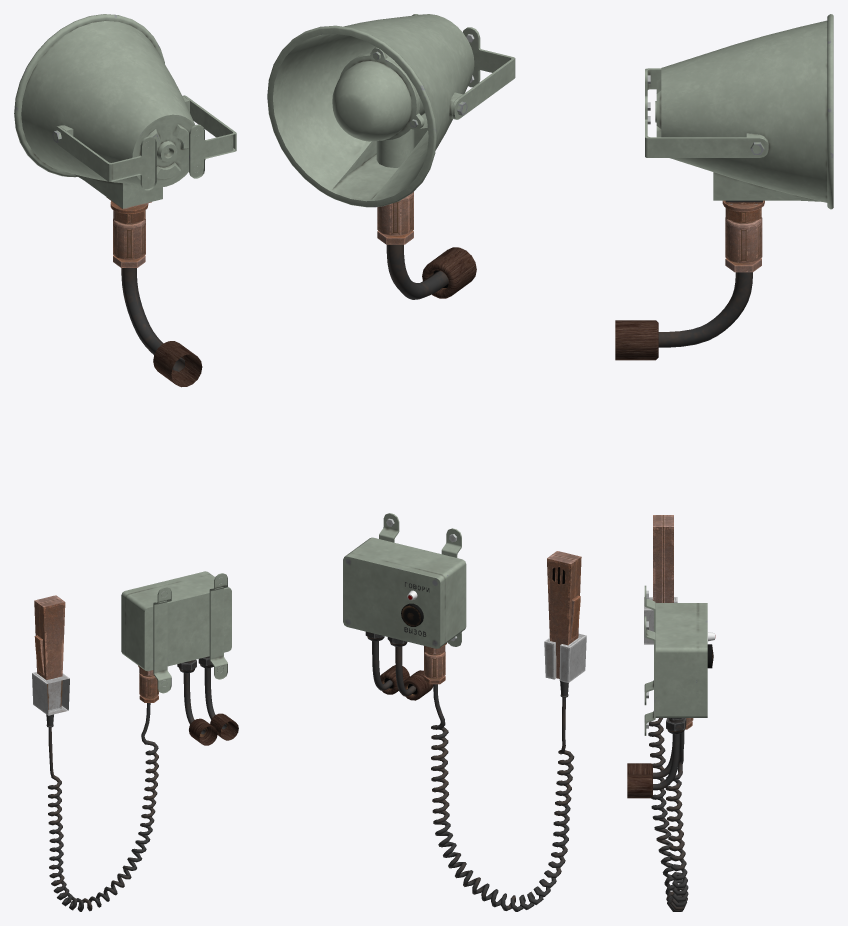
File: speaker.glb
3 views of the same model, side by side, from view 1: azimuth 30°, elevation 25°; view 2: azimuth 150°, elevation 25°; view 3: azimuth 270°, elevation 25° (orthographic). The views are drawn at different scales.
Visible parts, largest first — view 1: Bell_Body_Low.002, Controller_Button_Low.002; view 2: Bell_Body_Low.002, Controller_Button_Low.002; view 3: Bell_Body_Low.002, Controller_Button_Low.002.
Boxes of the visible parts, x1,y1,x2,y2 form: Bell_Body_Low.002: (14,14,236,387); Controller_Button_Low.002: (32,571,238,911); Bell_Body_Low.002: (267,14,515,299); Controller_Button_Low.002: (343,513,586,911); Bell_Body_Low.002: (615,14,833,360); Controller_Button_Low.002: (627,515,715,911).
Bounding box in the file's own units: 0.3028 × 1.17 × 0.2519.
Materials: 1 (1 with a texture image).
